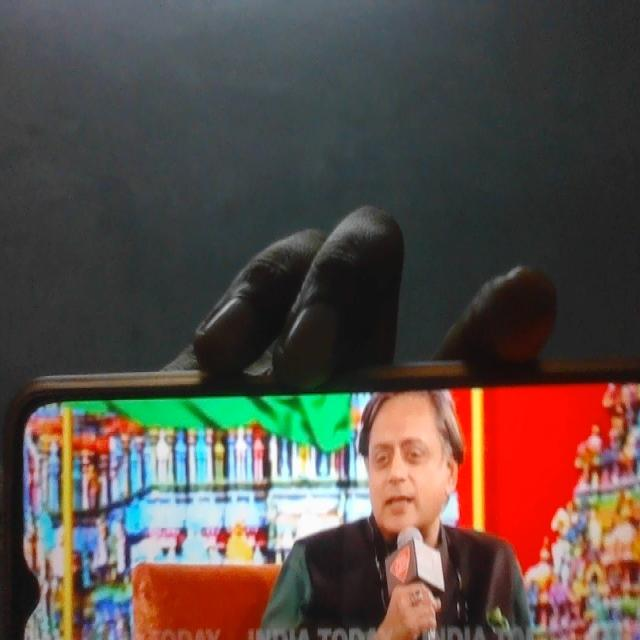fake: (342, 337, 459, 559)
